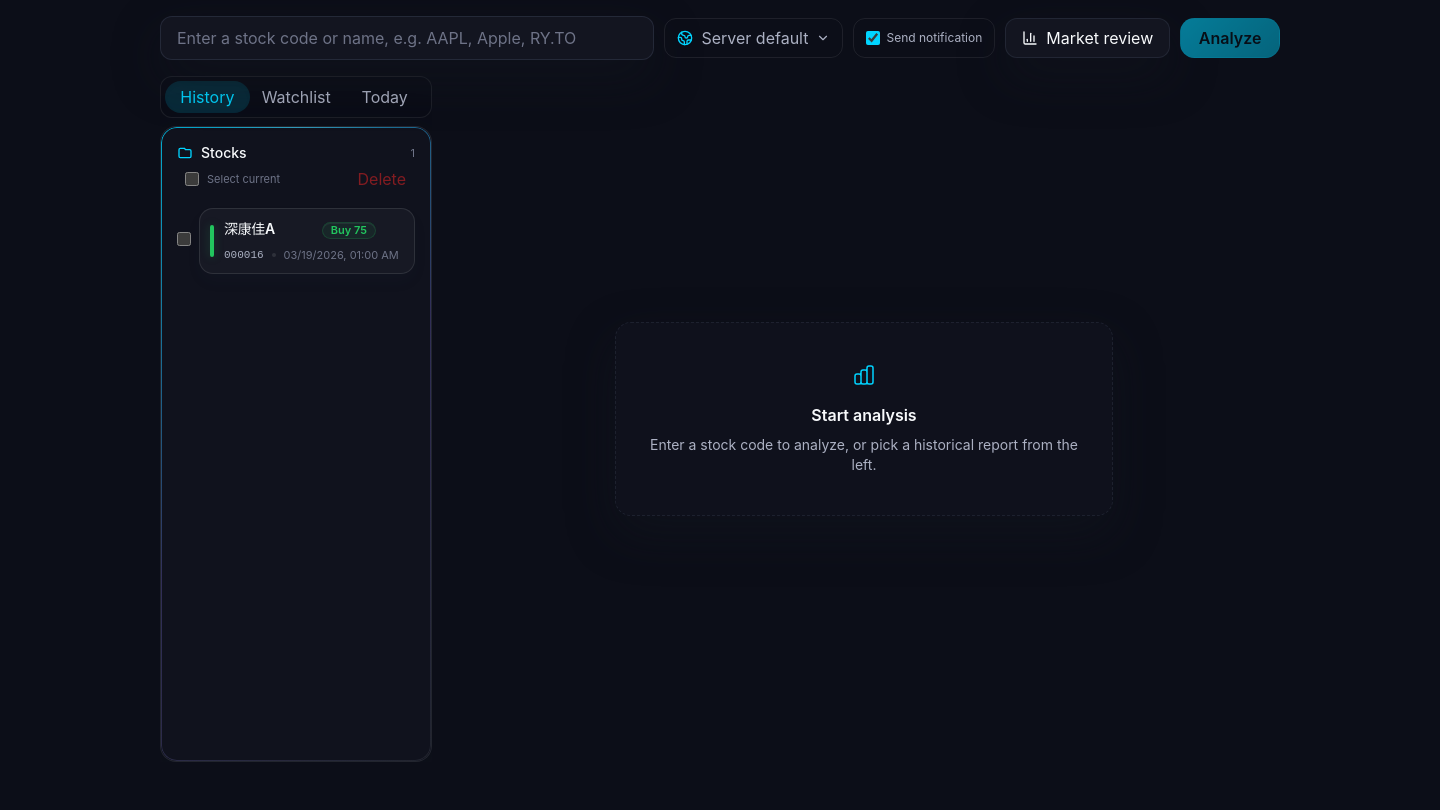
Scenario: HomePage › fails open to stock identity after the index registry load fails (PR #2312)
Click the button "Watchlist" at (296, 97), box [254,81,338,113]
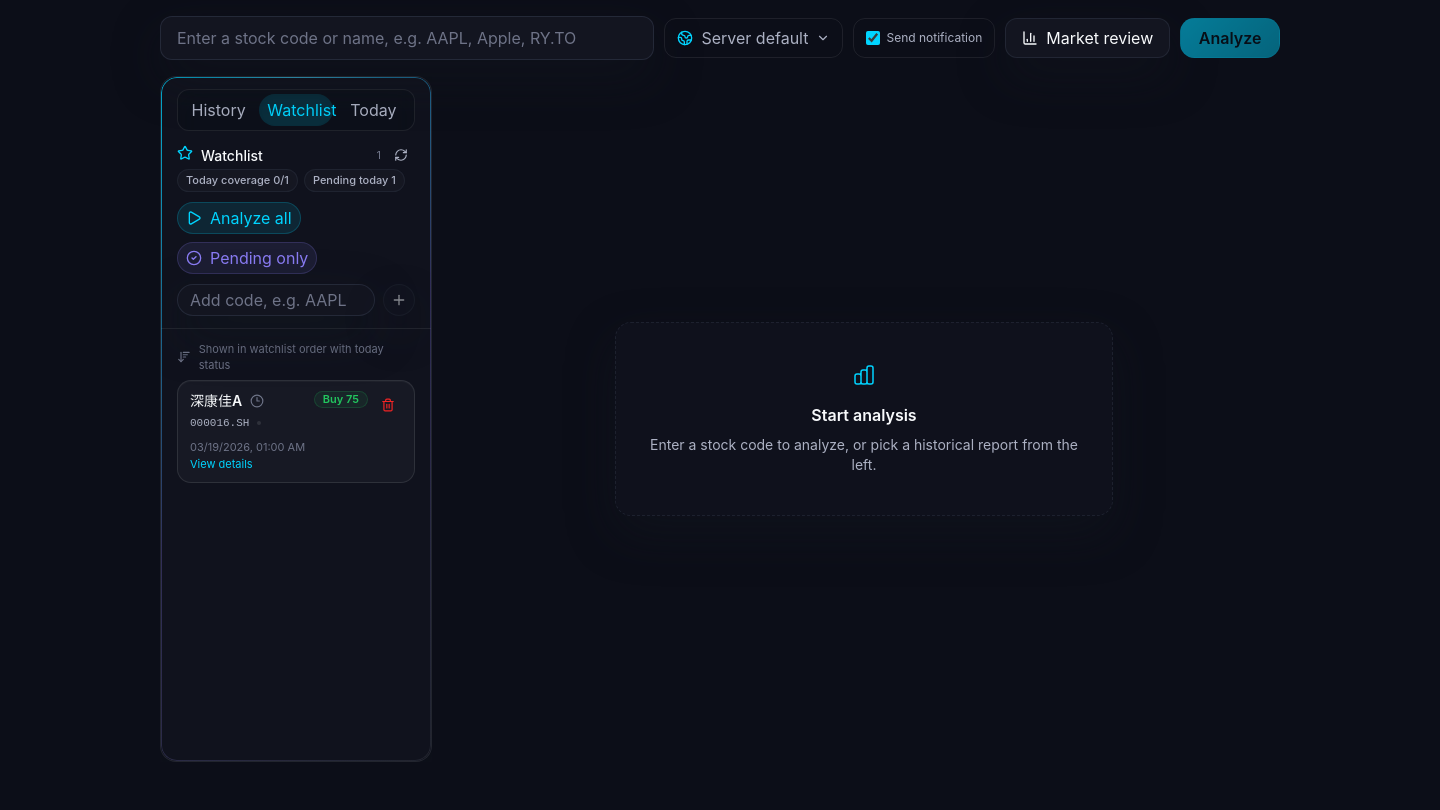
Check: the element with test id "watchlist-row-000016.SH" shows "深康佳A", box [190,390,306,472]
Check: the button "Analyze all" is enabled, box [177,202,301,234]
